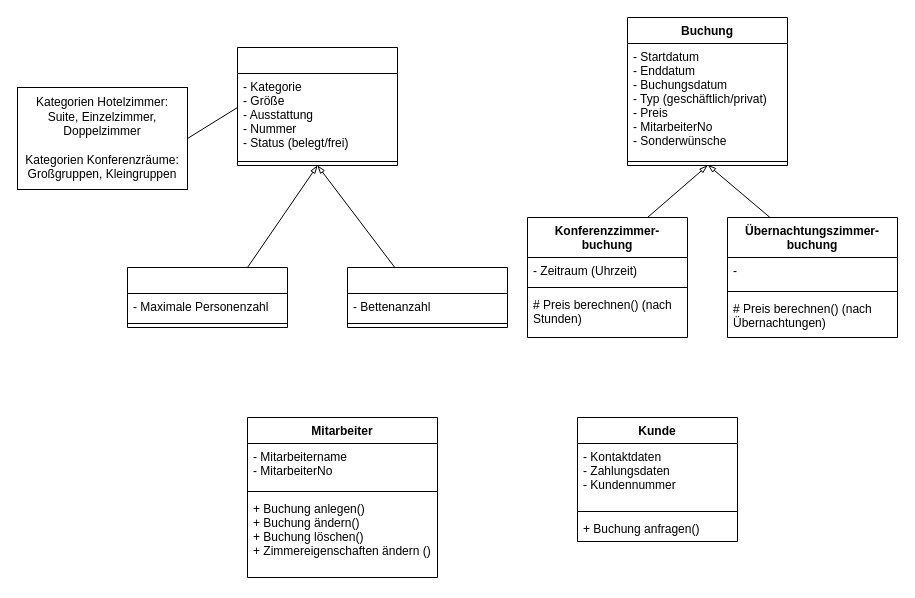
Some shapes in this 915 by 598 pixel diagram are drawn without their labels. The box of each missing label's shape, as (x1, y1, x2, y2) in pixels:
Konferenzzimmer: (126, 266, 288, 328)
Zimmer: (236, 46, 398, 166)
Übernachtungszimmer: (346, 266, 508, 328)
